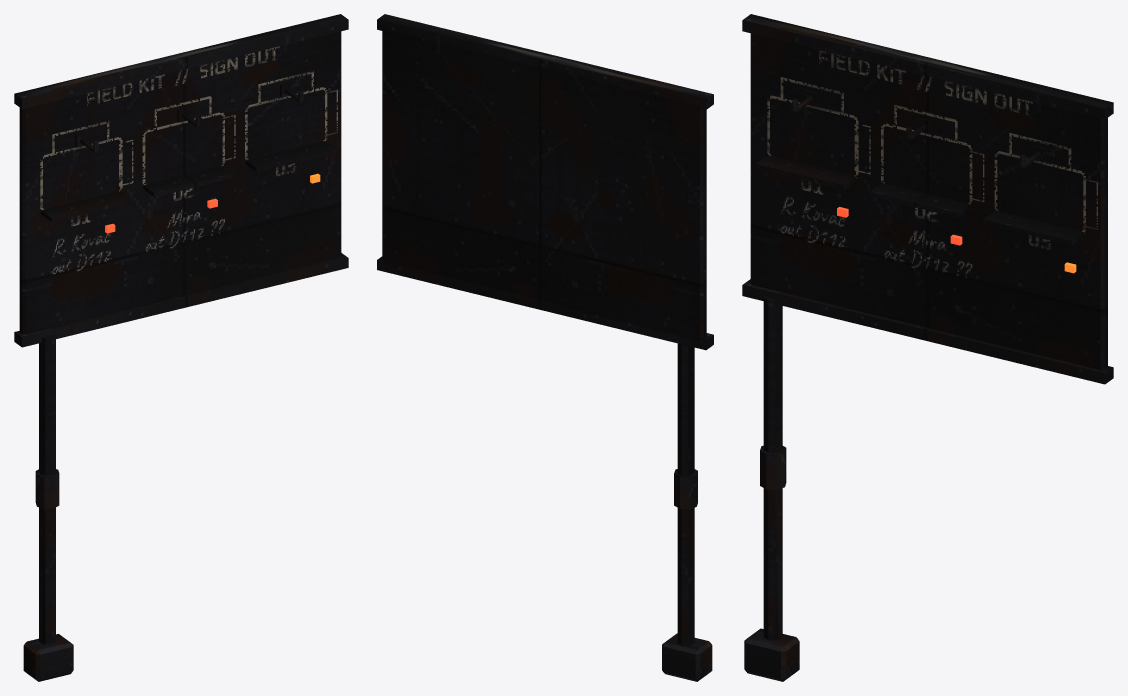
The model's file is dosimeter_rack.glb.
The picture shows the model from 3 angles, left to right: view 1: azimuth 30°, elevation 25°; view 2: azimuth 150°, elevation 25°; view 3: azimuth 330°, elevation 25°; orthographic projection. The views are drawn at different scales.
Visible parts, largest first — view 1: body, decals; view 2: body, decals; view 3: body, decals.
Part boxes in pixels (box(x1,y1,x2,y2)): body: box(14, 14, 348, 681); decals: box(40, 42, 337, 274); body: box(377, 14, 713, 681); decals: box(488, 43, 678, 88); body: box(742, 14, 1113, 681); decals: box(767, 25, 1097, 277).
Size of what is drawn, in the model's own units: 0.86 by 1.46 by 0.101.
6 materials, 4 textured.
